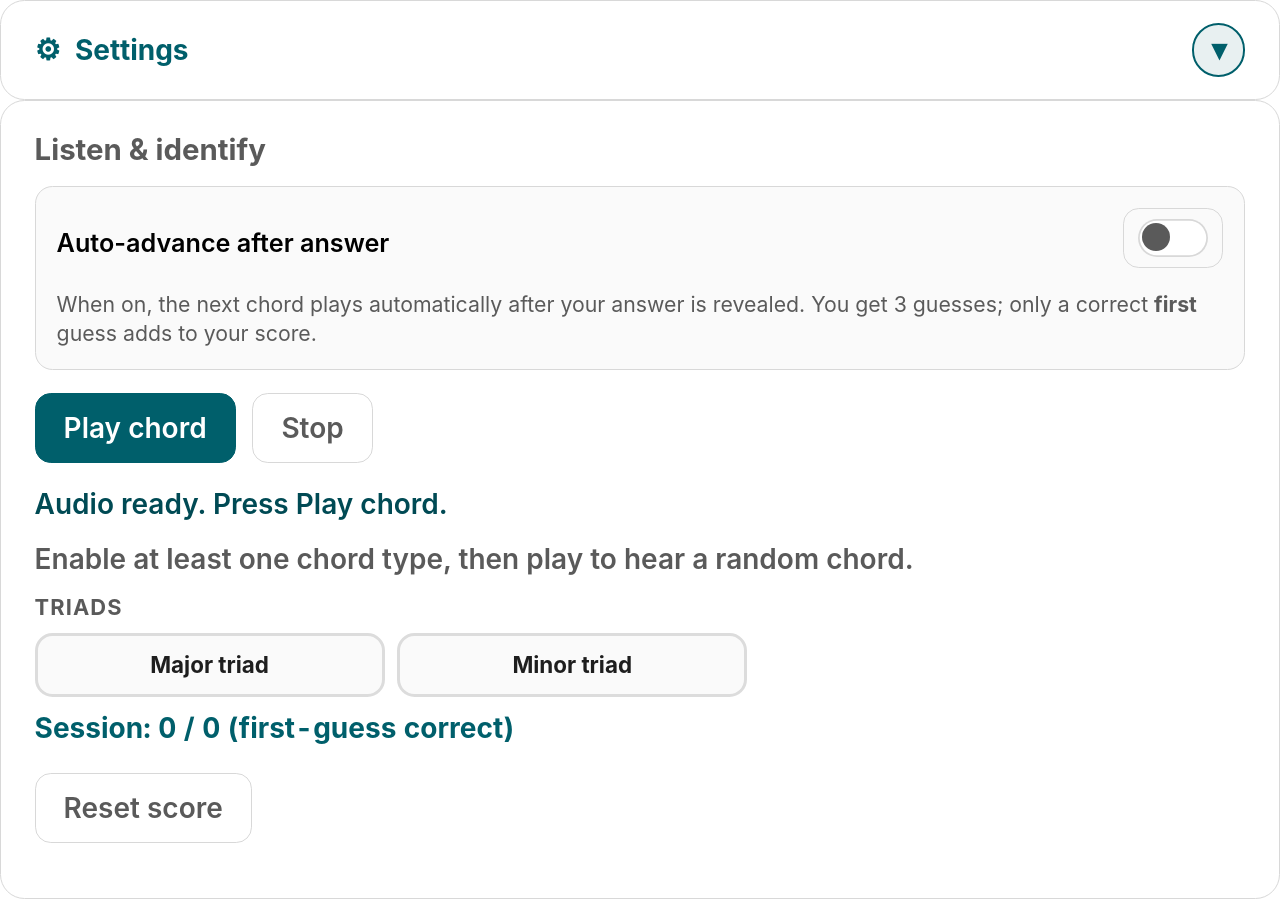
Scenario: ChordTopic — first-guess scoring (docs/05-topics/03 §6) › counts a first-try correct answer as total+1, correct+1
Click the button "Play chord" at x=135, y=428, box [35,393,236,463]
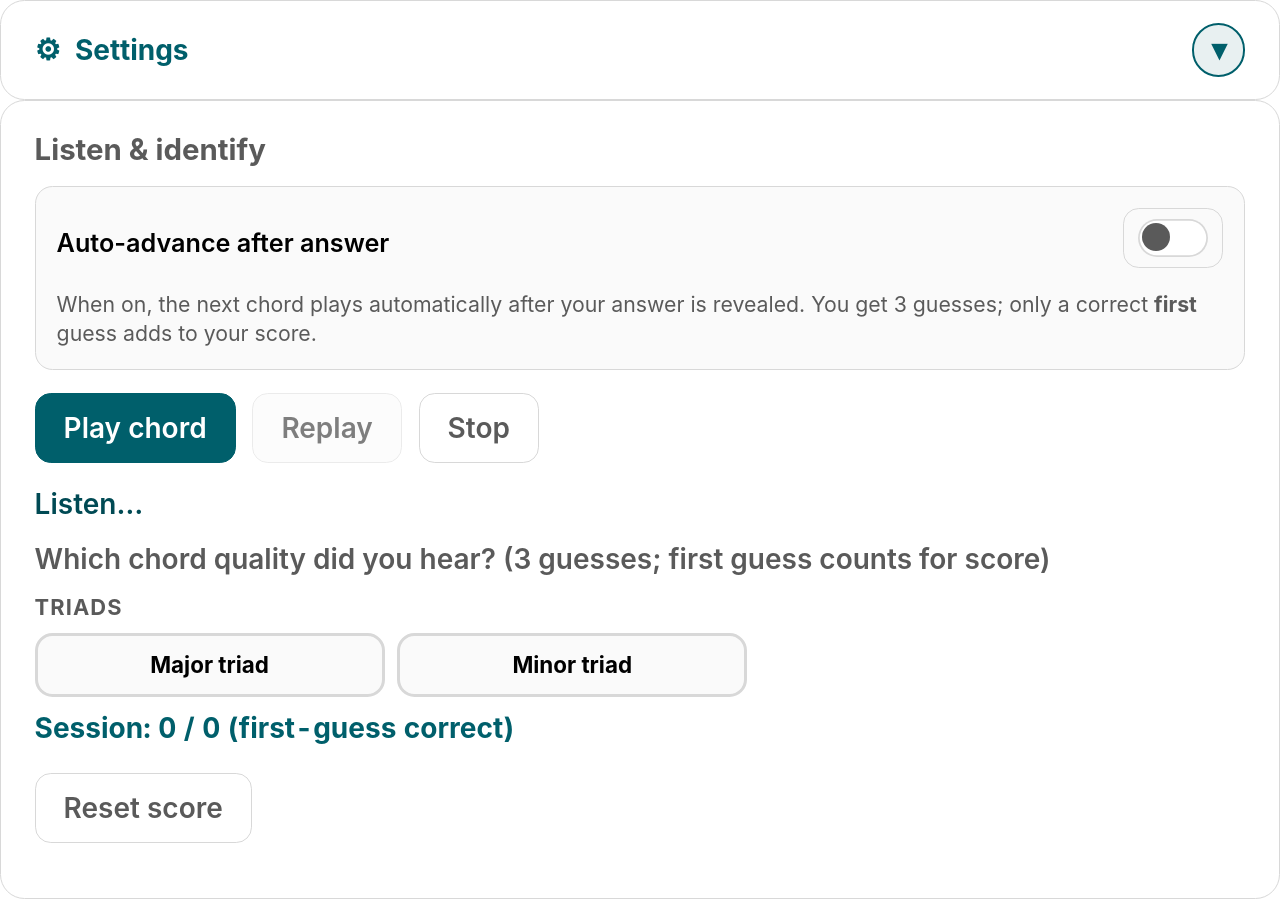
Click the button "Major triad" at x=210, y=665, box [35,632,385,697]
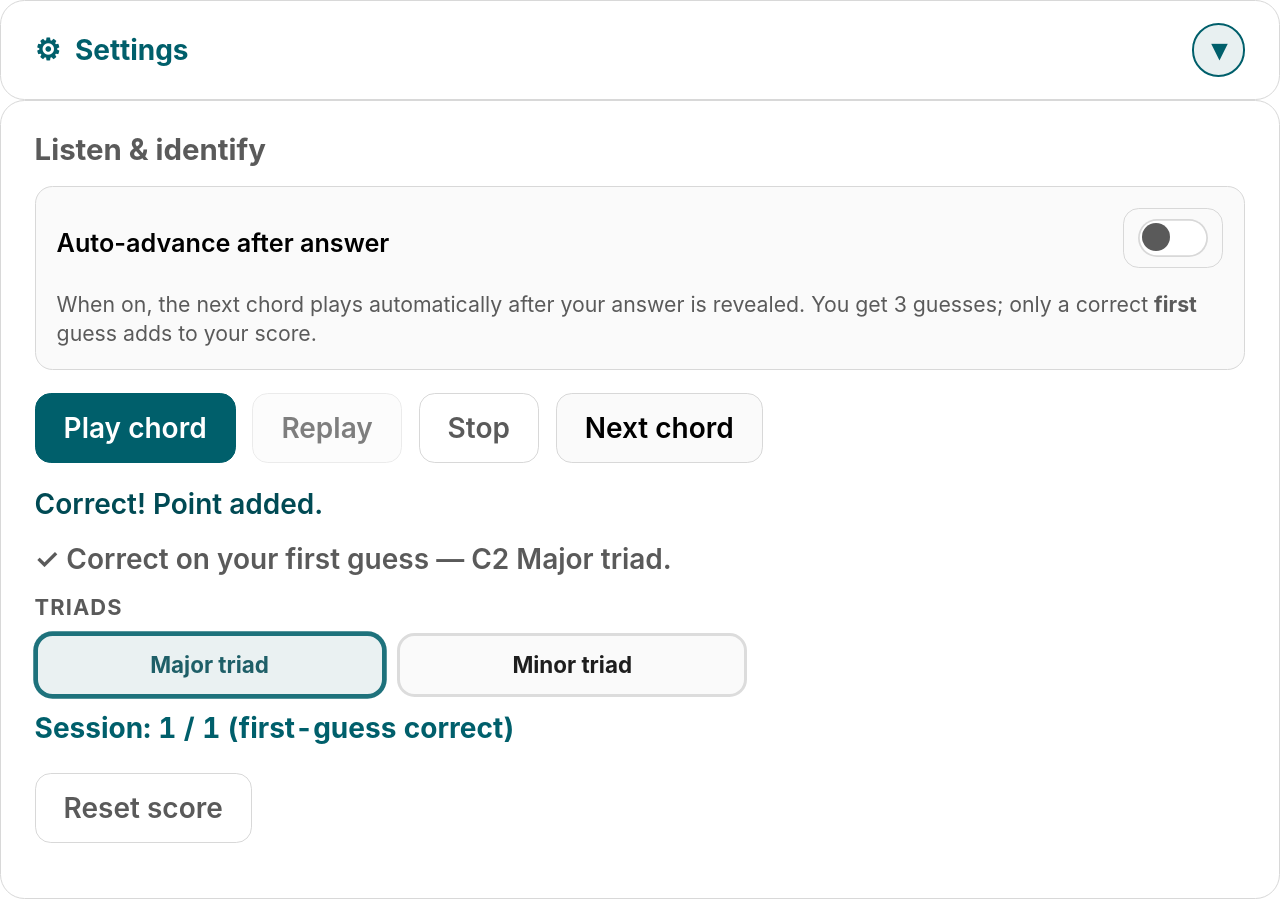
Now the text "Session: 1 / 1 (first-guess correct)" is shown, box [35,711,514,745]
